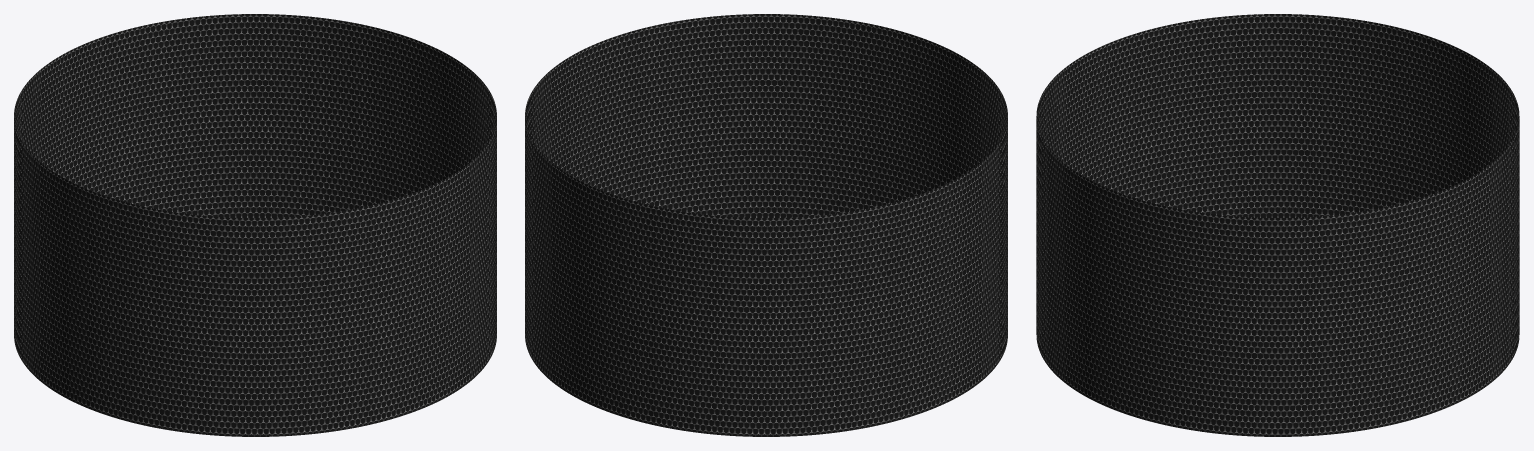
Rendered from Zone.fbx.
3 views of the same model, side by side, from view 1: azimuth 30°, elevation 25°; view 2: azimuth 150°, elevation 25°; view 3: azimuth 270°, elevation 25° (orthographic).
Visible parts, largest first — view 1: ZoneWall; view 2: ZoneWall; view 3: ZoneWall.
Boxes of the visible parts, box(x1,y1,x2,y2) form: ZoneWall: box(14, 14, 496, 436); ZoneWall: box(525, 14, 1007, 436); ZoneWall: box(1036, 14, 1519, 436).
Bounding box in the file's own units: 20883 × 10442 × 20883.
Materials: 1 (1 with a texture image).
